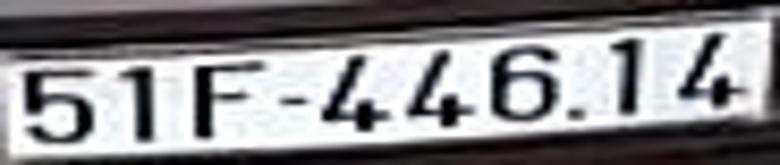-: (277, 96, 309, 106)
.: (566, 109, 586, 121)
1: (119, 67, 156, 142), (609, 37, 638, 117)
4: (403, 49, 478, 129), (679, 32, 748, 113), (320, 56, 390, 135)
5: (22, 70, 94, 146)
6: (490, 44, 558, 123)
F: (191, 60, 260, 140)
